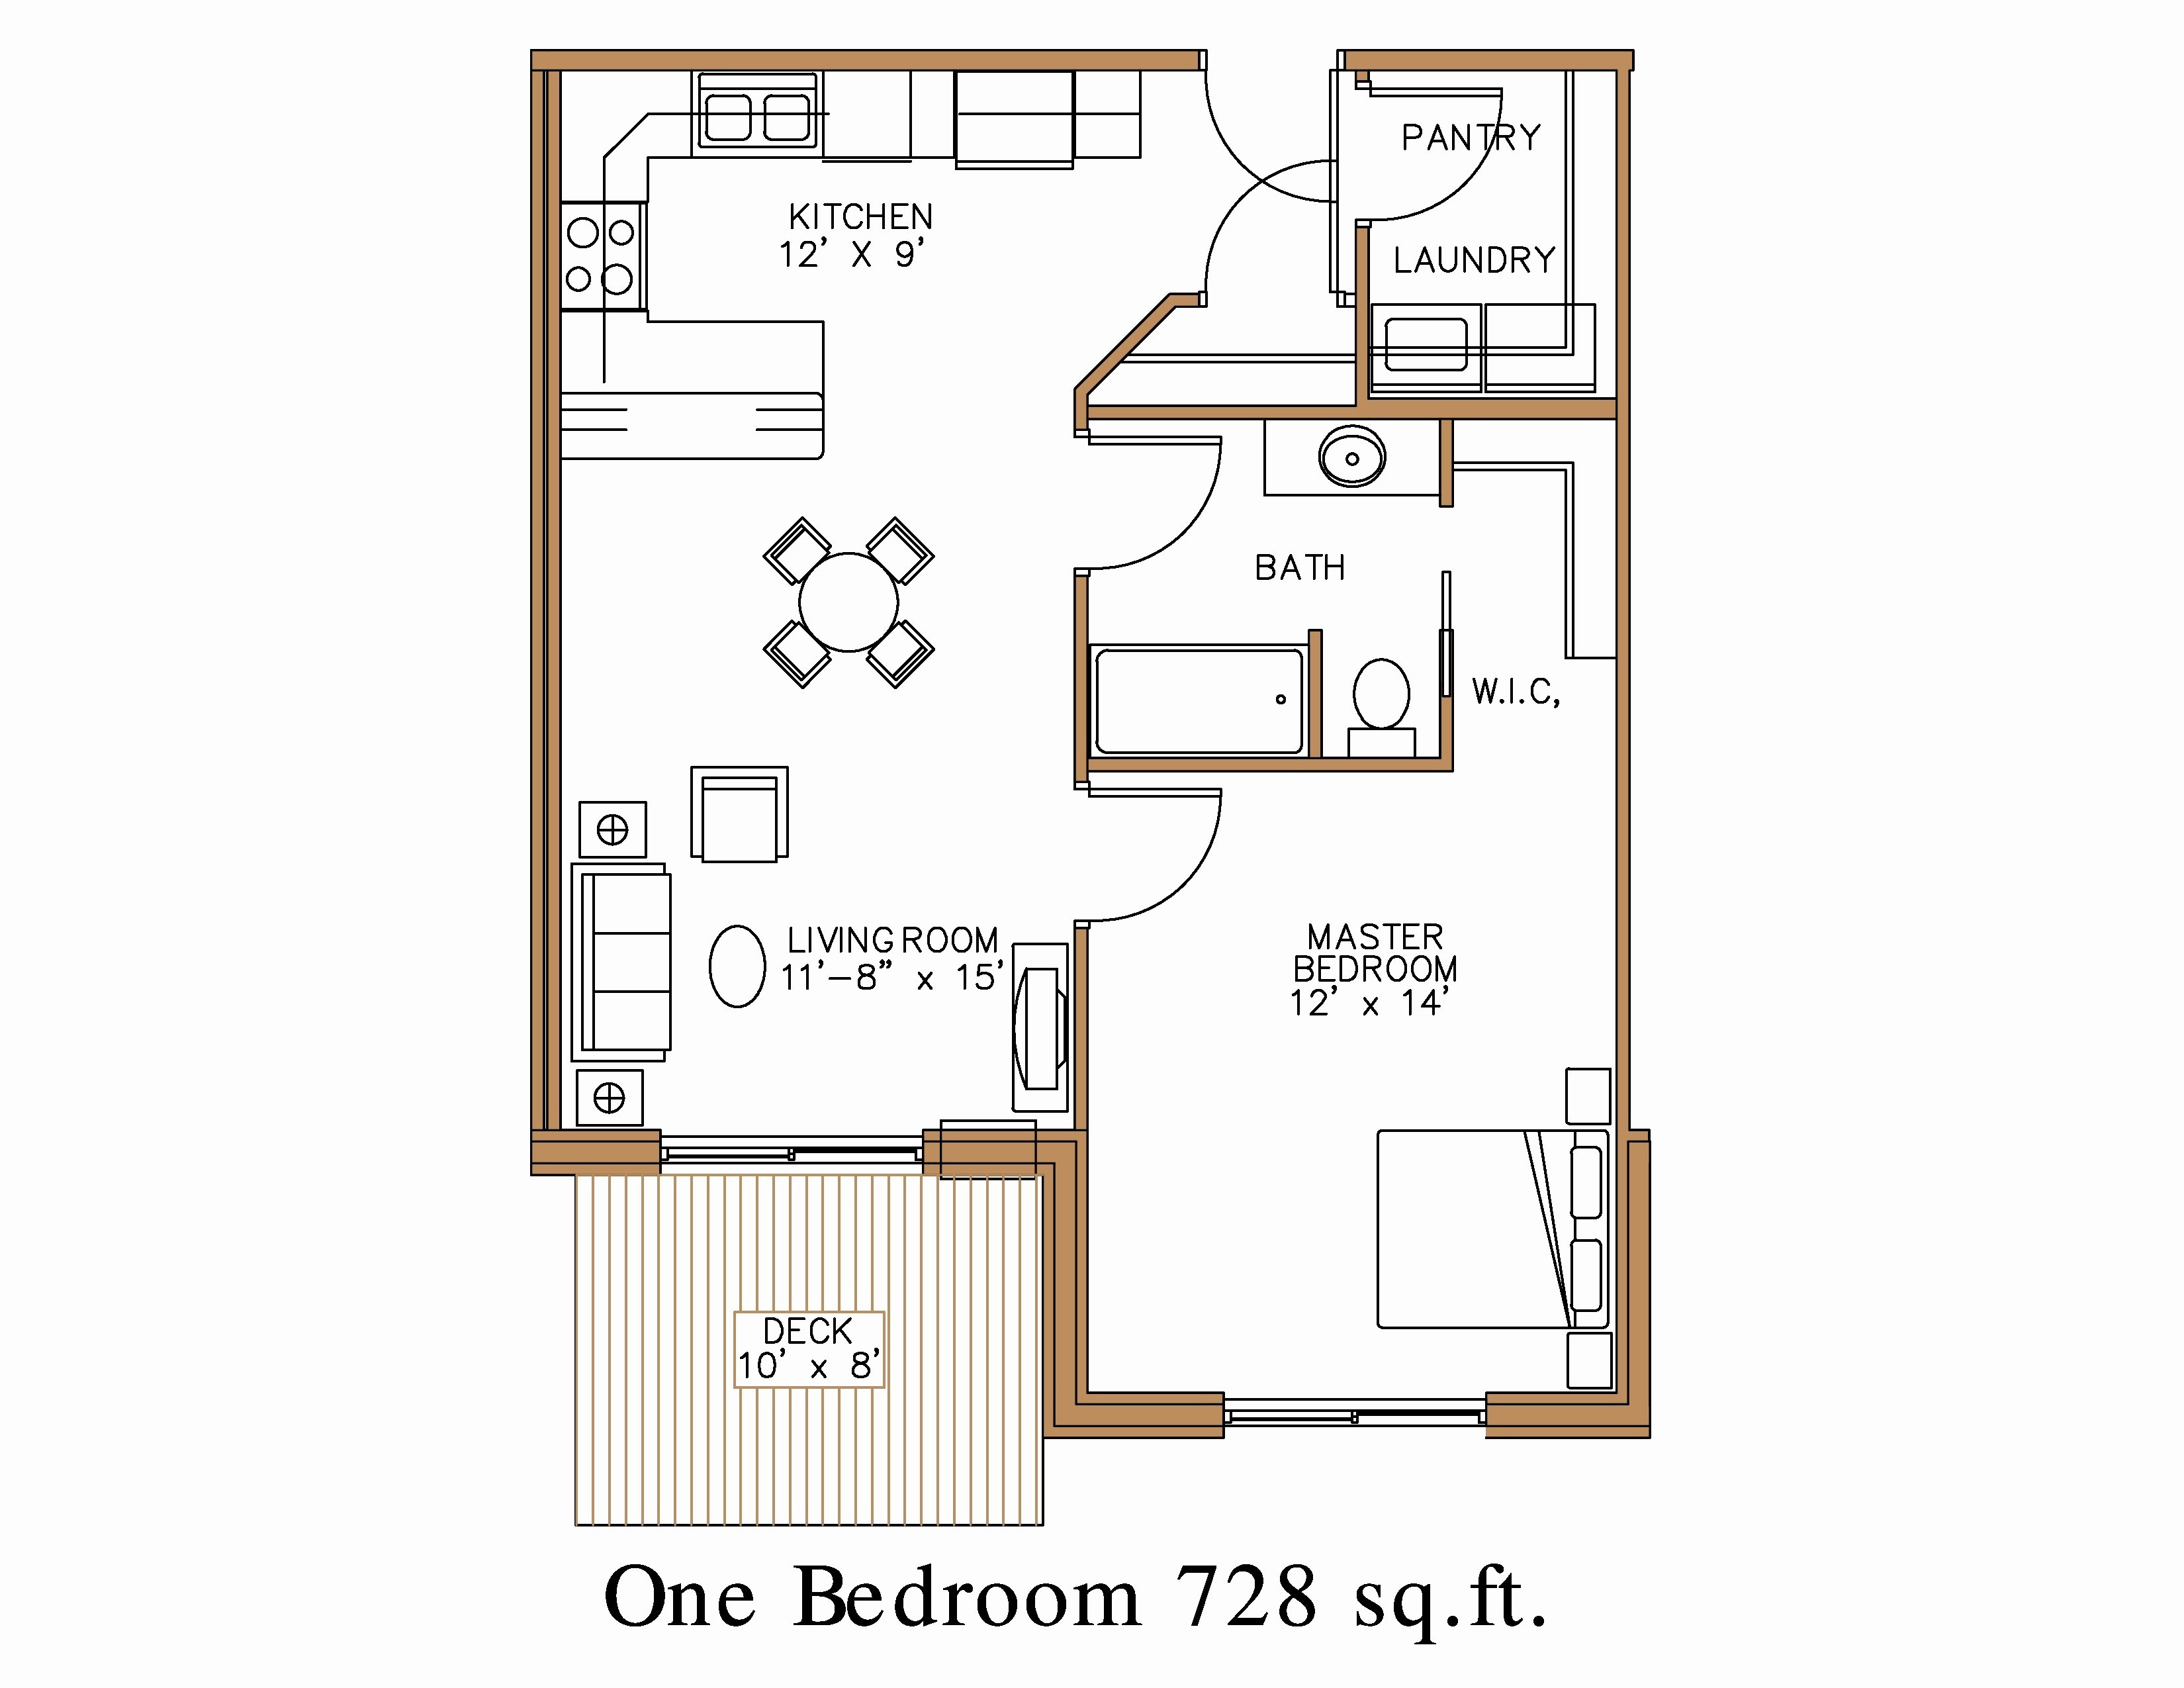wall: (530, 71, 562, 1131), (1046, 1176, 1088, 1438), (1615, 1128, 1654, 1390), (1617, 417, 1631, 1128), (530, 51, 1202, 66), (927, 1128, 1090, 1176), (1489, 1390, 1649, 1433), (1085, 1392, 1232, 1438), (530, 1128, 661, 1176), (1347, 50, 1636, 69), (1615, 69, 1631, 417), (1369, 399, 1613, 420), (1074, 576, 1088, 782), (1074, 926, 1088, 1129), (1088, 406, 1360, 417), (1088, 757, 1319, 770), (1356, 225, 1370, 417), (1317, 757, 1455, 773), (1310, 629, 1322, 755), (1441, 418, 1455, 504), (1441, 697, 1454, 766), (1074, 390, 1087, 429), (1172, 291, 1205, 305)
